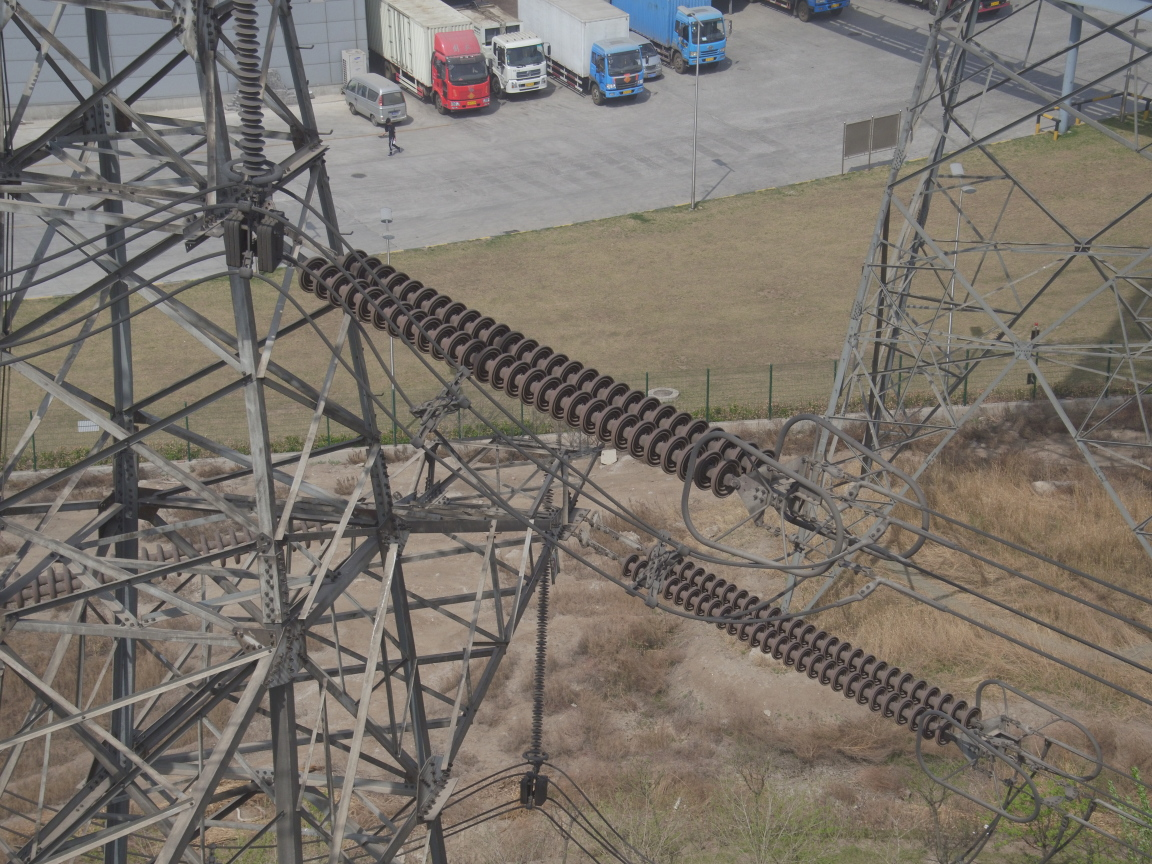insulator: (287, 238, 796, 508), (591, 531, 1000, 748)
